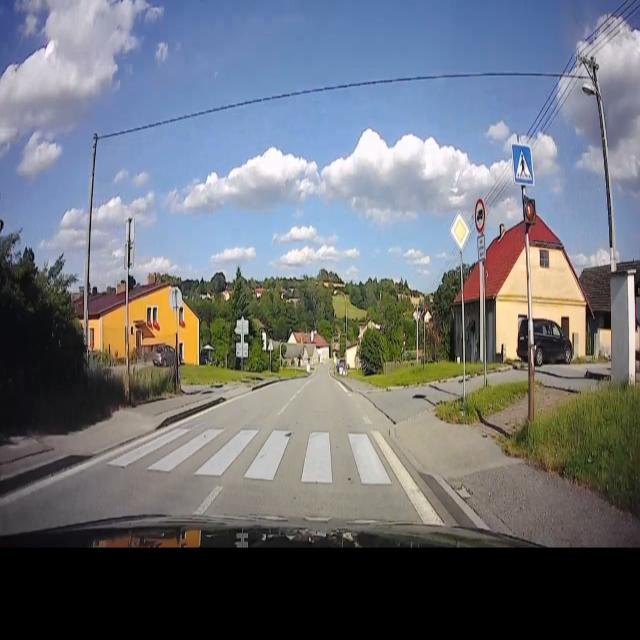Pedestrian crosswalk: (116, 420, 387, 490), (509, 141, 536, 186)
